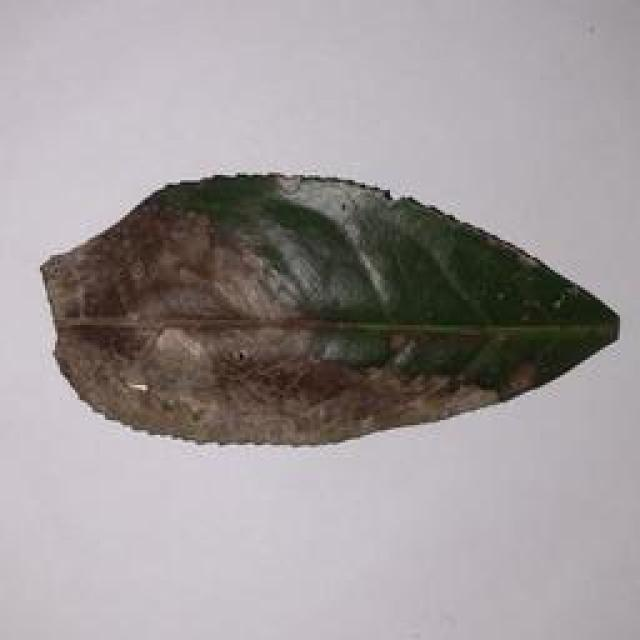Gray Blight: (19, 165, 625, 454)
